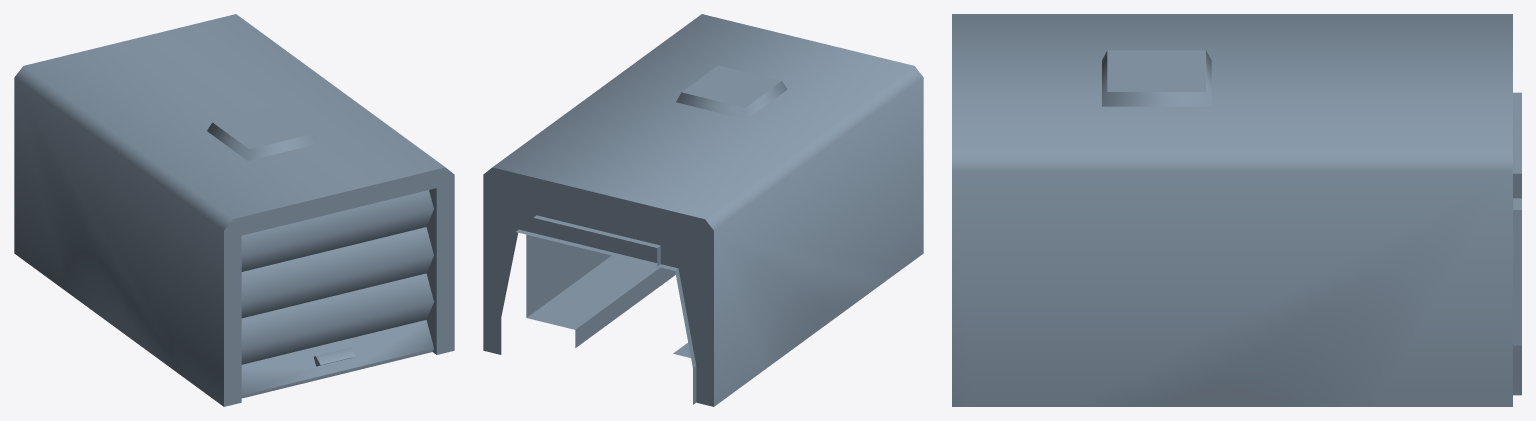
The model's file is trailer.glb.
3 renders of one model, left to right at view 1: azimuth 30°, elevation 25°; view 2: azimuth 150°, elevation 25°; view 3: azimuth 270°, elevation 25°, orthographic. The views are drawn at different scales.
Parts seen in each view (by area): view 1: body (×2); view 2: body; view 3: body.
Boxes of the visible parts, <box> form: body (×2): <box>14,14,454,406</box>; body: <box>483,14,923,406</box>; body: <box>952,14,1521,406</box>.
Bounding box in the file's own units: 1.3 × 1.05 × 2.08.
